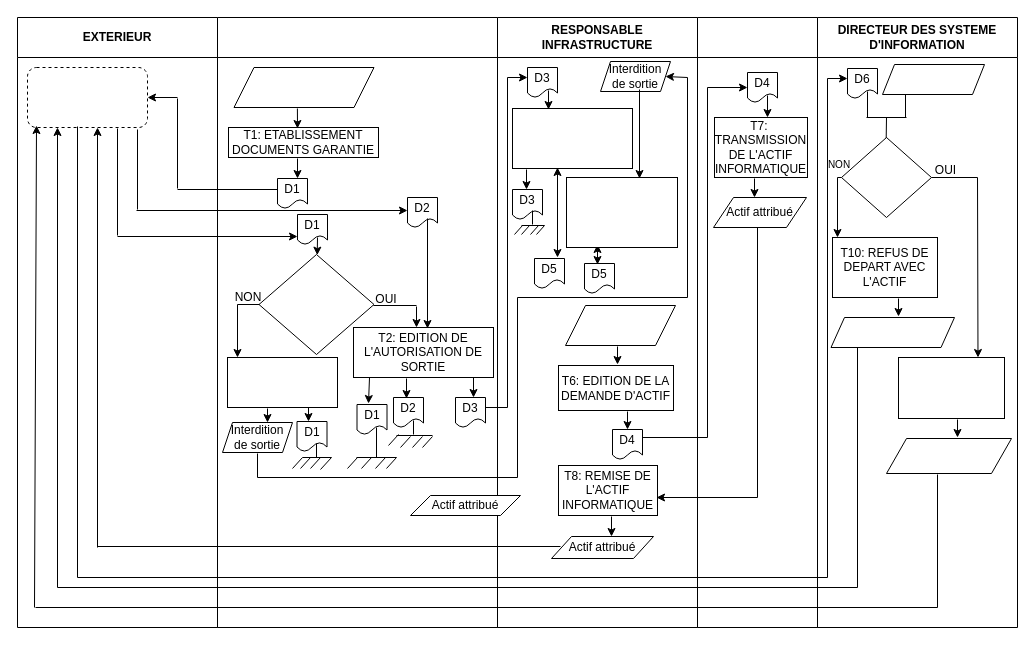
The diagram is 1035 pixels wide and 645 high, and some of its shapes have lost their labels. The shapes that lost their labels are listed below. From the top down, each one's box as (x1, y1, x2, y2) in pixels, then its label:
(26, 66, 148, 128): EMPLOYE
(233, 66, 374, 108): Apres les phases de recrutement
(882, 64, 984, 94): Periode de congés
(512, 108, 632, 168): T4: ENREGISTREMENT DE L'AUTORISATION DE SORTIE
(840, 136, 932, 218): Départ avec actif?
(566, 176, 678, 248): T5: ENREGISTREMENT DU REFUS DE L'AUTORISATION SORTIE
(258, 254, 374, 354): Document de garantie signé ?
(216, 16, 498, 628): DIRECTRICE DES RESSOURCES HUMAINES
(696, 16, 818, 628): COMPTABLE
(564, 304, 676, 346): Quelque temps apres
(830, 316, 954, 348): Départ avec l'actif refusé
(226, 356, 338, 408): T3: REFUS DE L'AUTORISATION DE SORTIE
(898, 356, 1004, 418): T9: AUTORISATION DE DEPART AVEC L'ACTIF
(886, 438, 1012, 474): Dépar avec l'actif autorisé
